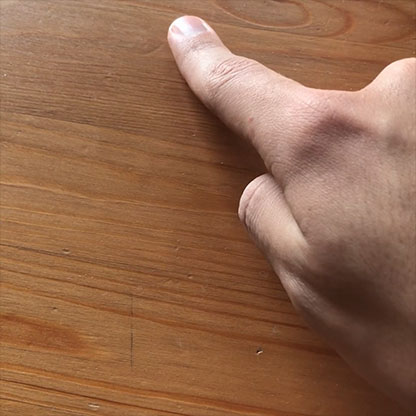fingertip: (159, 10, 223, 56)
